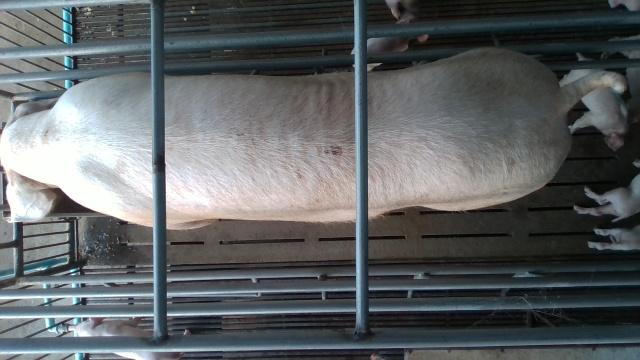piglet: (561, 51, 633, 153), (352, 10, 429, 72), (574, 158, 640, 225), (585, 222, 640, 252)
sow-stand-feed: (1, 48, 628, 232)
